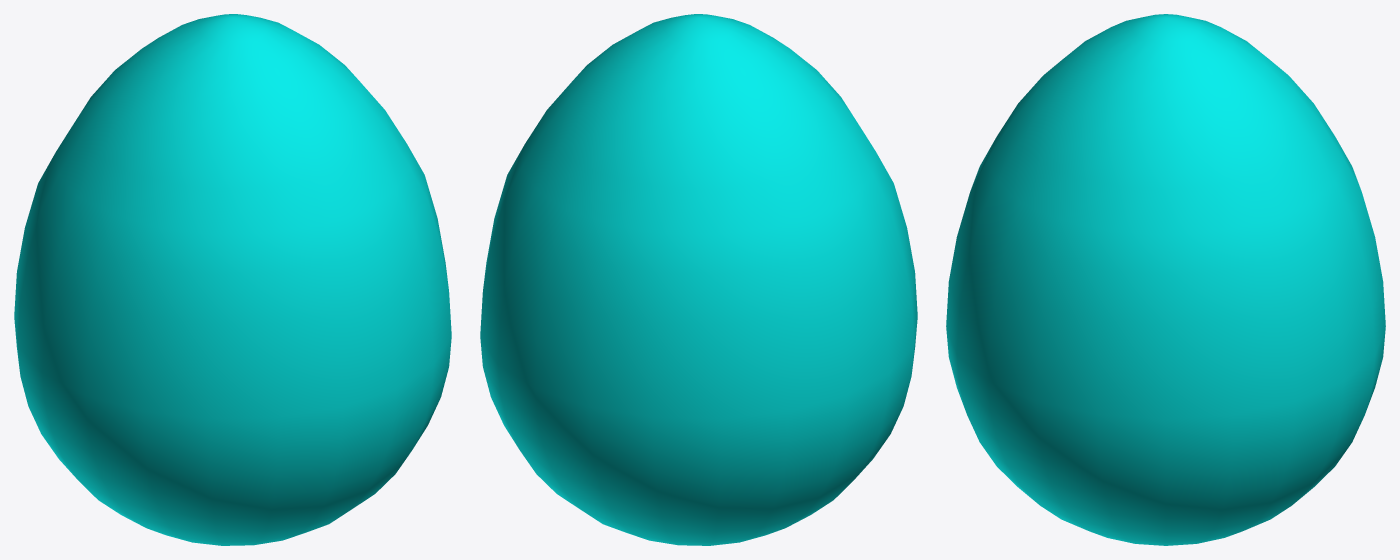
Rendered from Egg.fbx.
The picture shows the model from 3 angles, left to right: view 1: azimuth 30°, elevation 25°; view 2: azimuth 150°, elevation 25°; view 3: azimuth 270°, elevation 25°; orthographic projection.
Visible parts, largest first — view 1: pSphere1; view 2: pSphere1; view 3: pSphere1.
Boxes of the visible parts, box(x1,y1,x2,y2) form: pSphere1: box(14, 14, 451, 545); pSphere1: box(480, 14, 917, 545); pSphere1: box(946, 14, 1385, 545).
Bounding box in the file's own units: 2 × 2.55 × 2.
